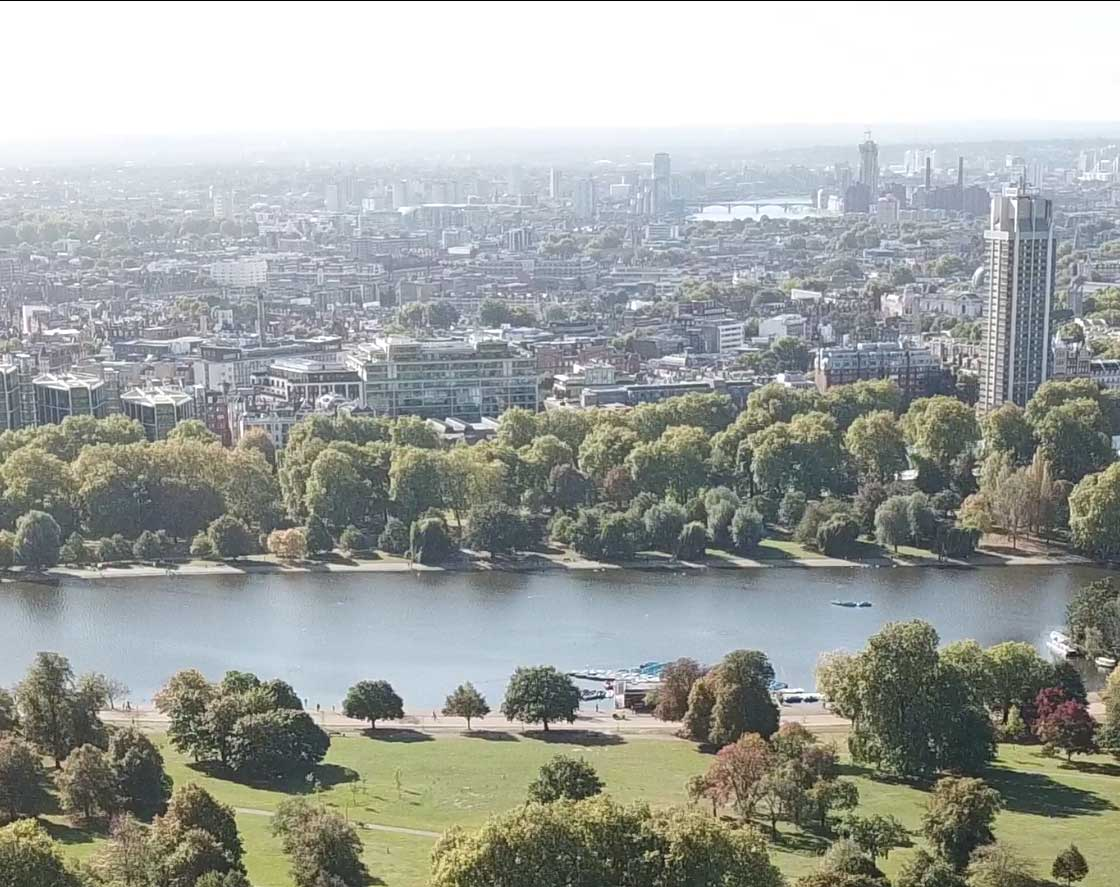building: (976, 181, 1071, 449), (319, 338, 559, 438)
tree: (831, 619, 1007, 801), (666, 646, 787, 753), (497, 662, 594, 749), (328, 678, 416, 738), (433, 673, 492, 746)
